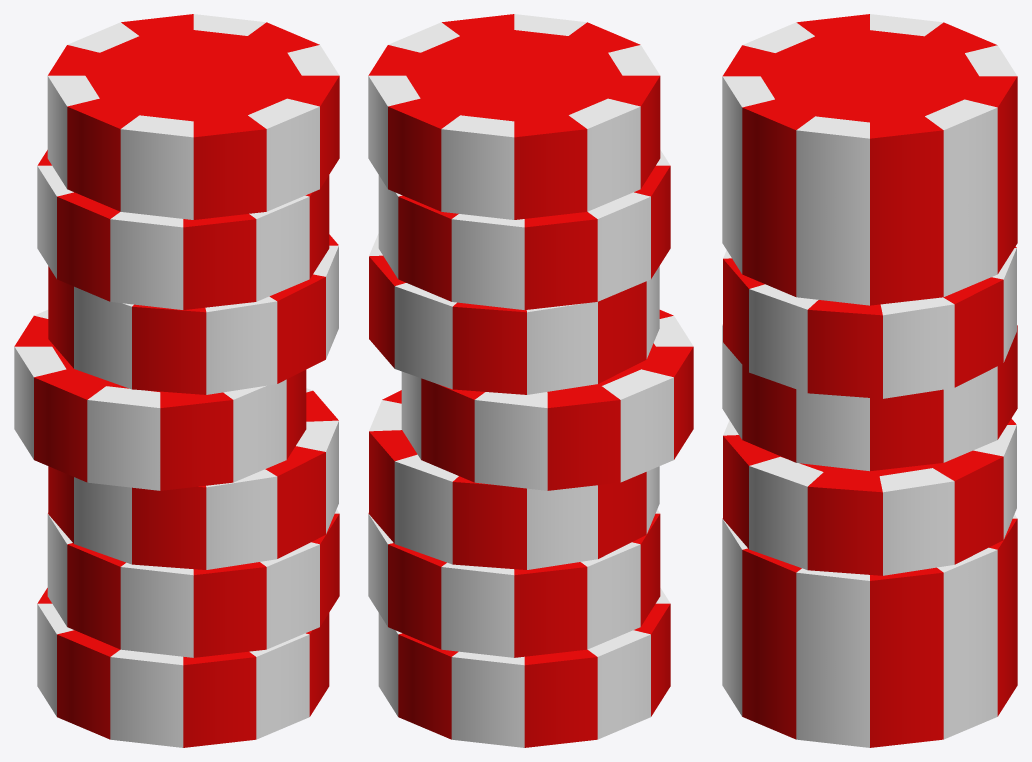
The model's file is Poker Chip Red Small Stack.FBX.
3 renders of one model, left to right at view 1: azimuth 30°, elevation 25°; view 2: azimuth 150°, elevation 25°; view 3: azimuth 270°, elevation 25°, orthographic.
Visible parts, largest first — view 1: Poker Chip015, Poker Chip012, Poker Chip Red Small Stack, Poker Chip014, Poker Chip010, Poker Chip013, Poker Chip011; view 2: Poker Chip015, Poker Chip012, Poker Chip Red Small Stack, Poker Chip014, Poker Chip010, Poker Chip013, Poker Chip011; view 3: Poker Chip015, Poker Chip011, Poker Chip013, Poker Chip010, Poker Chip Red Small Stack, Poker Chip014, Poker Chip012.
Part boxes in pixels (<box>): Poker Chip015: <box>47,14,339,219</box>; Poker Chip012: <box>14,310,306,490</box>; Poker Chip Red Small Stack: <box>37,588,329,747</box>; Poker Chip014: <box>37,150,329,309</box>; Poker Chip010: <box>47,509,339,657</box>; Poker Chip013: <box>48,234,338,394</box>; Poker Chip011: <box>48,388,338,569</box>; Poker Chip015: <box>368,14,660,219</box>; Poker Chip012: <box>401,310,693,490</box>; Poker Chip Red Small Stack: <box>378,588,670,747</box>; Poker Chip014: <box>378,150,670,309</box>; Poker Chip010: <box>368,509,660,657</box>; Poker Chip013: <box>369,233,659,394</box>; Poker Chip011: <box>369,390,659,569</box>; Poker Chip015: <box>722,14,1017,222</box>; Poker Chip011: <box>723,418,1016,575</box>; Poker Chip013: <box>723,246,1016,398</box>; Poker Chip010: <box>722,514,1017,664</box>; Poker Chip Red Small Stack: <box>722,602,1017,747</box>; Poker Chip014: <box>722,160,1017,305</box>; Poker Chip012: <box>722,325,1017,471</box>.
Size of the model in its own units: 0.0181 by 0.0368 by 0.016.
